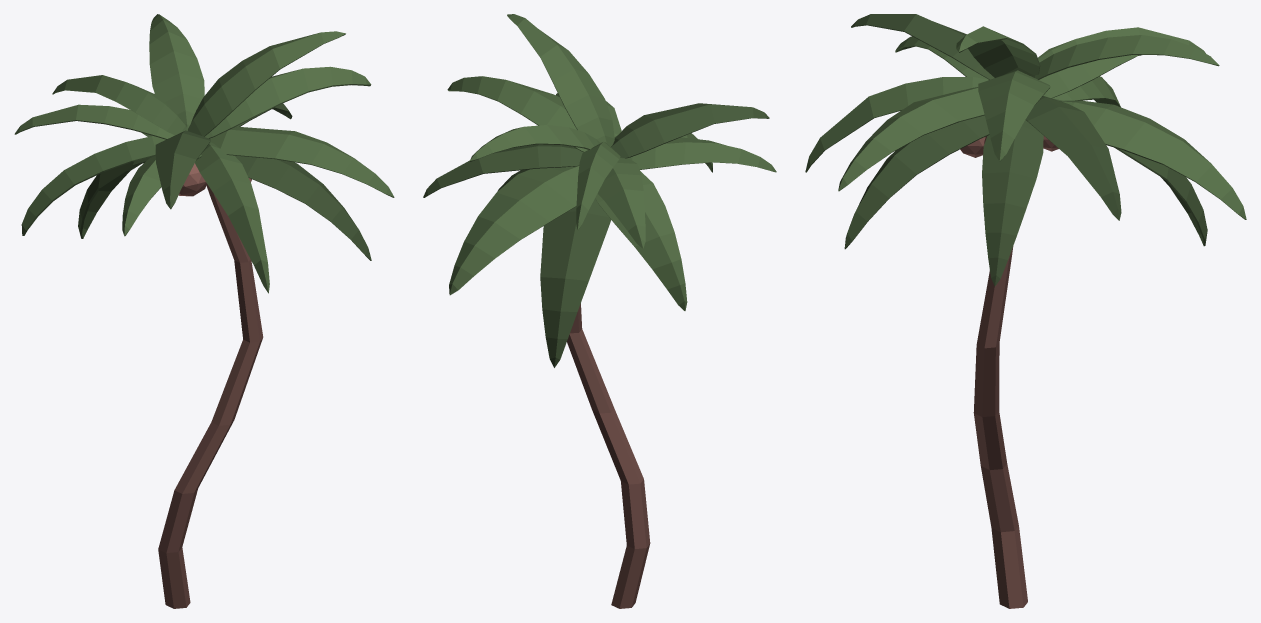
The model's file is PalmTree_4.glb.
3 views of the same model, side by side, from view 1: azimuth 30°, elevation 25°; view 2: azimuth 150°, elevation 25°; view 3: azimuth 270°, elevation 25° (orthographic). The views are drawn at different scales.
Parts seen in each view (by area): view 1: PalmTree_4; view 2: PalmTree_4; view 3: PalmTree_4.
Part boxes in pixels (x1,y1,x2,y2): PalmTree_4: [14, 14, 394, 608]; PalmTree_4: [423, 14, 776, 608]; PalmTree_4: [805, 14, 1246, 608].
Bounding box in the file's own units: 1.81 × 3.25 × 2.04.
